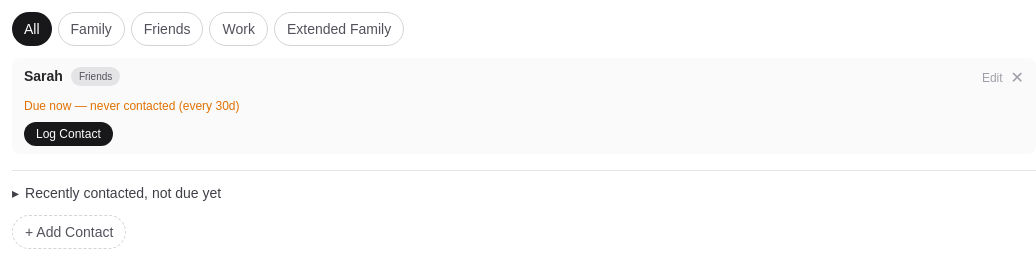
Test: ContactsCardBody › deletes a contact optimistically once confirmed
The image size is (1036, 266).
Click the button named "Delete contact" at (1017, 78), box [1011,66,1024,90]
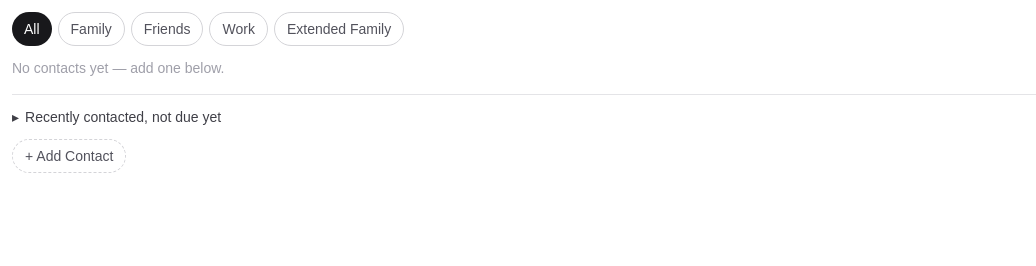
Expected: the text "Sarah" is gone
